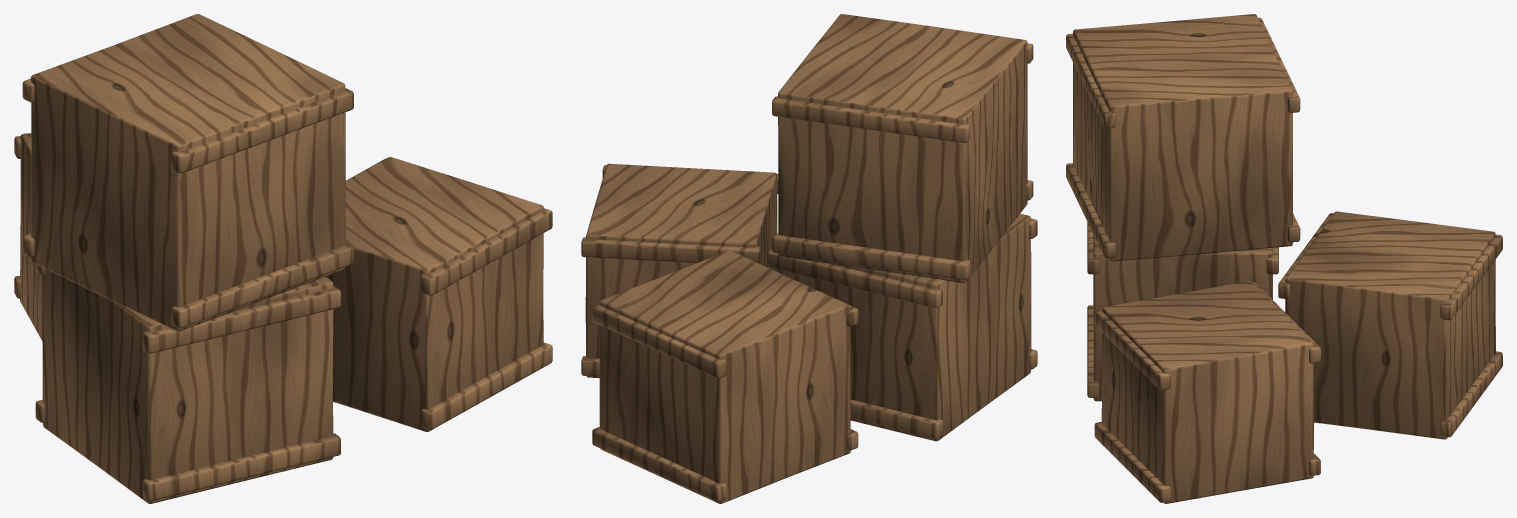
Rendered from p_crates.glb.
The picture shows the model from 3 angles, left to right: view 1: azimuth 30°, elevation 25°; view 2: azimuth 150°, elevation 25°; view 3: azimuth 270°, elevation 25°; orthographic projection. The views are drawn at different scales.
Visible parts, largest first — view 1: crates; view 2: crates; view 3: crates.
Boxes of the visible parts, bbox=[...] form: crates: bbox=[14, 14, 552, 503]; crates: bbox=[581, 14, 1037, 503]; crates: bbox=[1066, 14, 1502, 503].
Size of the model in its own units: 1.84 by 1.37 by 1.77.
1 material, 1 textured.
